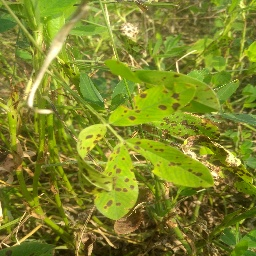GroundNut_Leaf: (110, 82, 196, 132), (92, 142, 141, 225), (144, 139, 215, 190), (78, 69, 105, 104), (215, 78, 242, 101)
